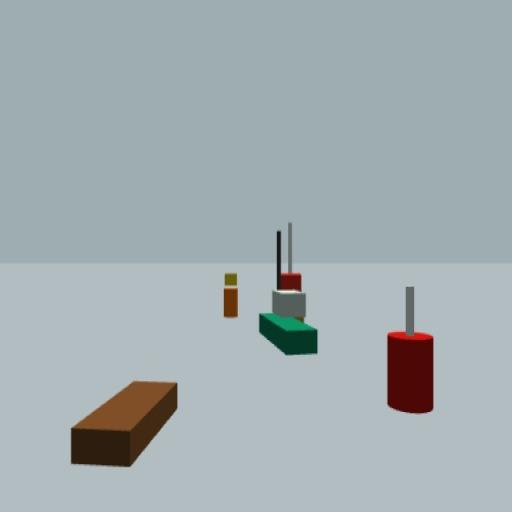buoy: (222, 271, 240, 318)
debris_container: (70, 378, 179, 470)
fishing_boat: (255, 230, 319, 358)
floating_obstacle: (384, 284, 435, 415)
